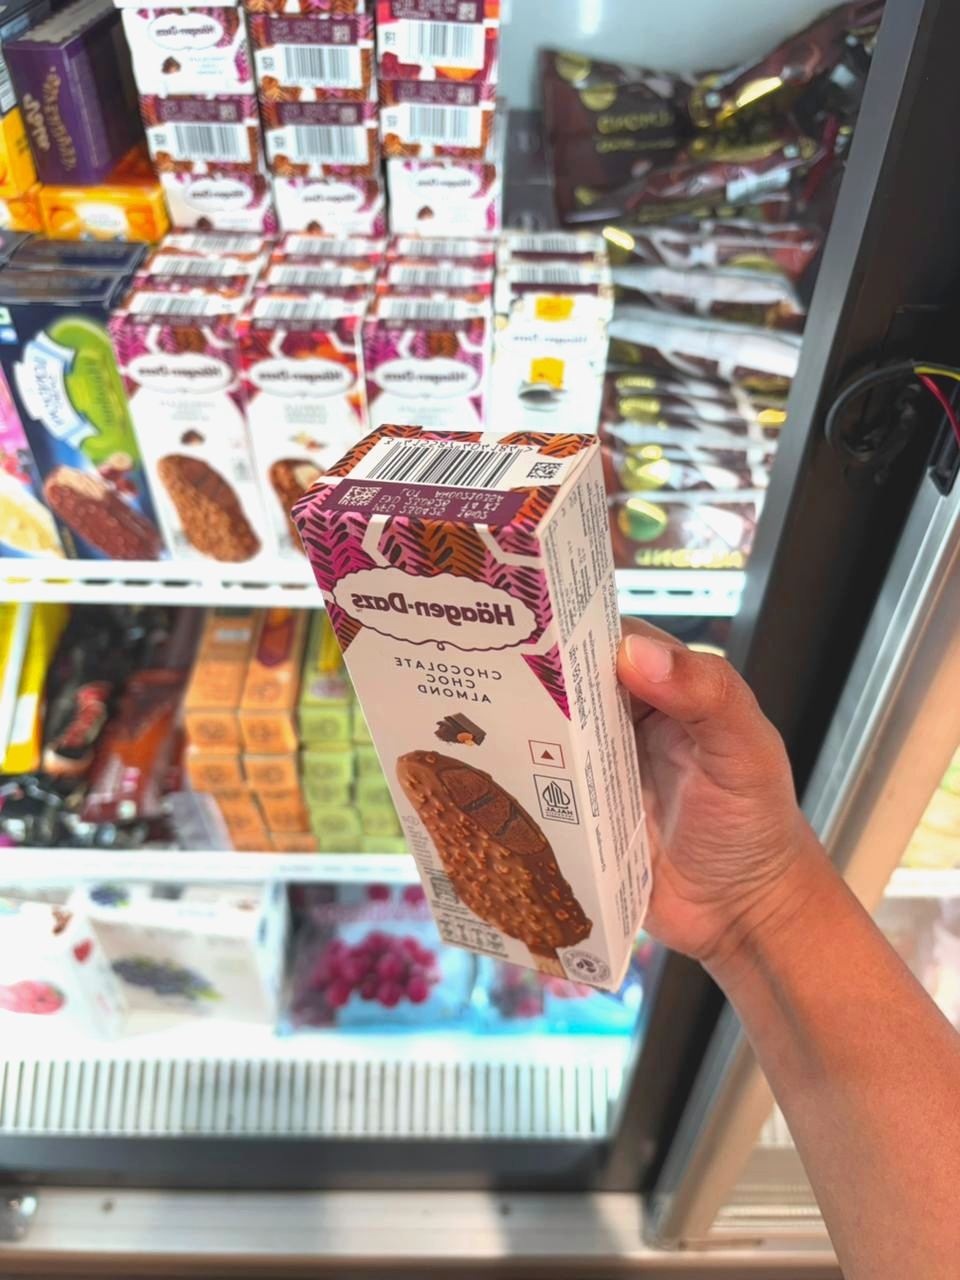Haagen-Dazs IceCream Bars: (301, 426, 653, 983), (105, 283, 289, 577), (236, 290, 371, 575), (478, 283, 619, 428), (365, 297, 495, 436), (238, 0, 379, 120), (117, 6, 272, 98), (376, 2, 501, 107), (382, 159, 508, 242), (265, 158, 390, 240), (140, 160, 268, 240), (387, 229, 493, 287), (495, 227, 606, 282)
